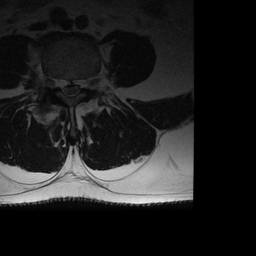CCS_normal: (67, 72, 74, 103)
LFS_normal: (82, 69, 89, 95)
LLS_normal: (74, 71, 81, 101)
RFS_normal: (51, 68, 60, 95)
RLS_normal: (60, 70, 67, 100)
